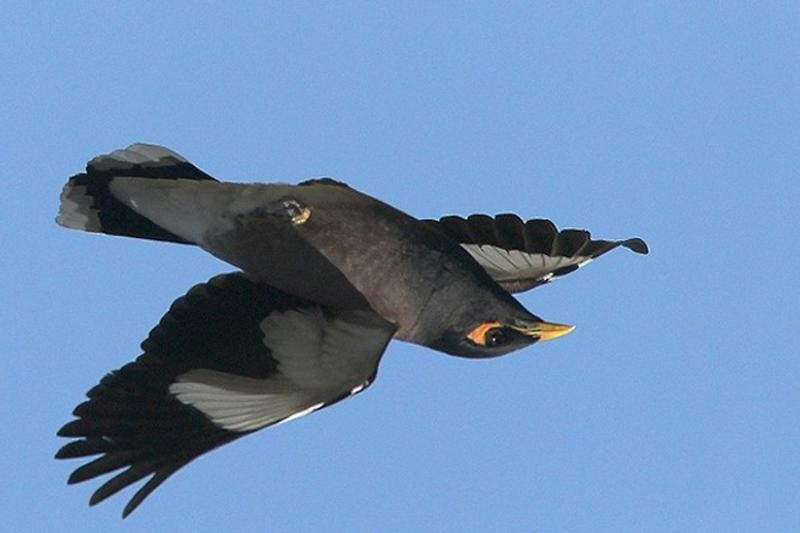myna: (69, 83, 649, 472)
